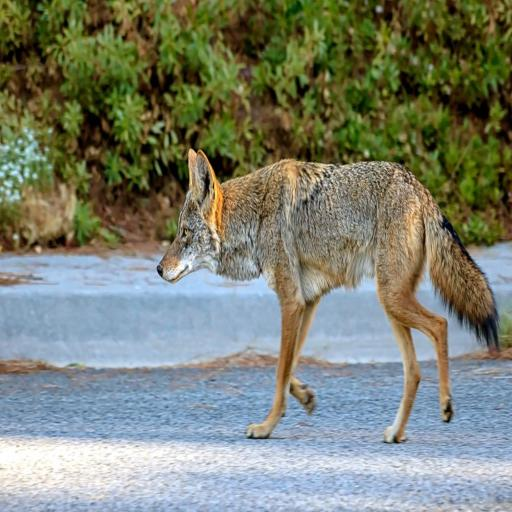wolf: (141, 122, 512, 462)
